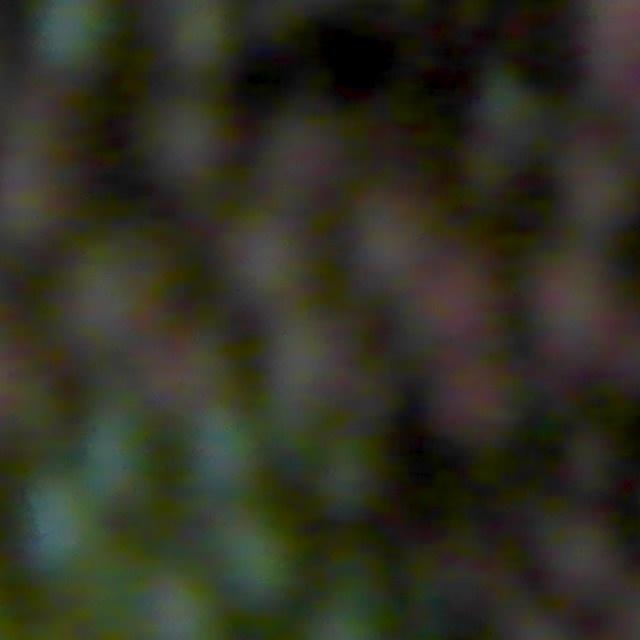SeaGrape: (537, 253, 640, 401), (441, 364, 561, 478), (270, 130, 384, 249), (262, 316, 362, 435), (25, 474, 125, 586), (351, 192, 445, 299), (403, 283, 508, 378), (75, 249, 165, 359), (533, 512, 622, 619), (215, 211, 312, 305), (141, 94, 236, 186), (155, 344, 255, 430), (100, 396, 181, 500), (207, 504, 289, 589), (196, 412, 274, 501), (310, 434, 388, 517), (469, 69, 546, 148), (29, 0, 117, 69), (134, 575, 222, 640)
